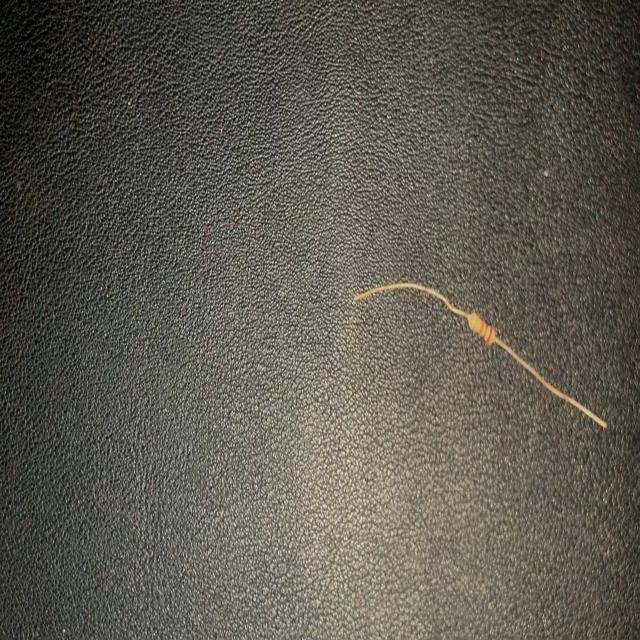resistor: (347, 271, 611, 441)
